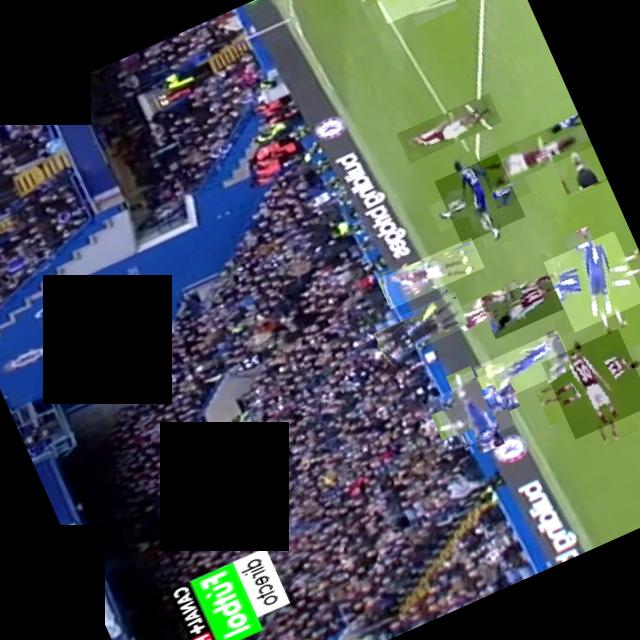referee: (370, 291, 470, 362), (550, 137, 607, 195)
soccer-player: (541, 327, 640, 438), (543, 229, 640, 331), (476, 113, 592, 191), (434, 152, 525, 244), (376, 236, 484, 308), (473, 329, 574, 404), (397, 92, 502, 162), (437, 371, 514, 448), (481, 274, 564, 338), (452, 280, 528, 332), (356, 0, 473, 23)
